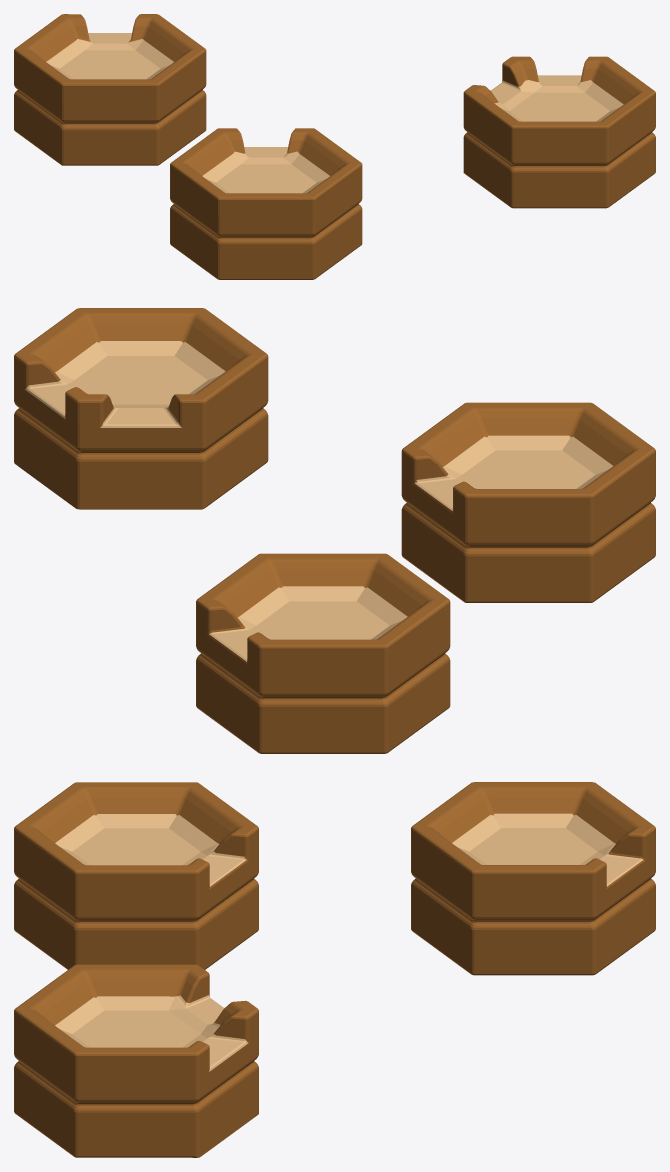
File: my_road_1.fbx
The picture shows the model from 3 angles, top to bottom: view 1: azimuth 30°, elevation 25°; view 2: azimuth 150°, elevation 25°; view 3: azimuth 270°, elevation 25°; orthographic projection. The views are drawn at different scales.
Visible parts, largest first — view 1: Circle.002, Circle.004, Circle.003; view 2: Circle.003, Circle.002, Circle.004; view 3: Circle.004, Circle.003, Circle.002.
Boxes of the visible parts, x1,y1,x2,y2 form: Circle.002: (170,128,362,279); Circle.004: (14,14,206,165); Circle.003: (463,56,655,208); Circle.003: (14,308,268,509); Circle.002: (401,402,655,602); Circle.004: (196,553,450,753); Circle.004: (411,782,655,975); Circle.003: (14,964,258,1157); Circle.002: (14,782,258,969).
Bounding box in the file's own units: 604 × 109 × 601.
